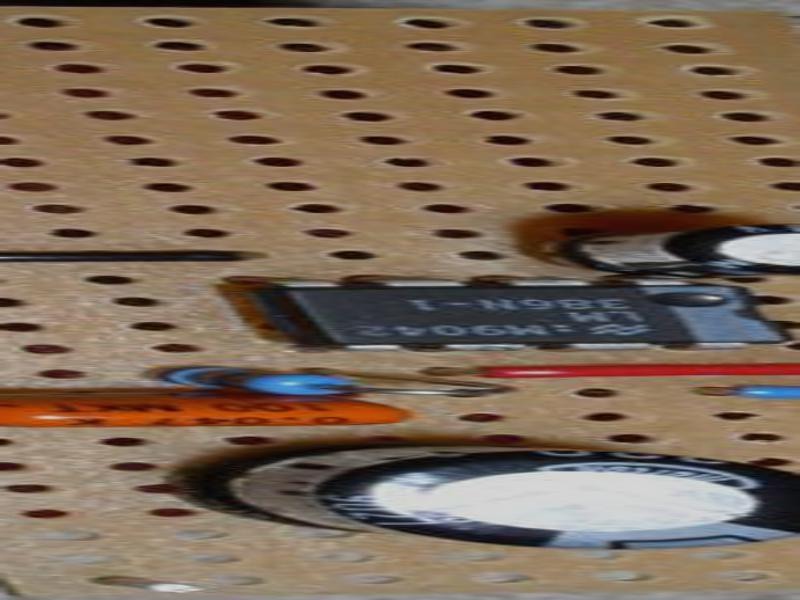Capacitor: (166, 438, 800, 558), (543, 208, 800, 284)
